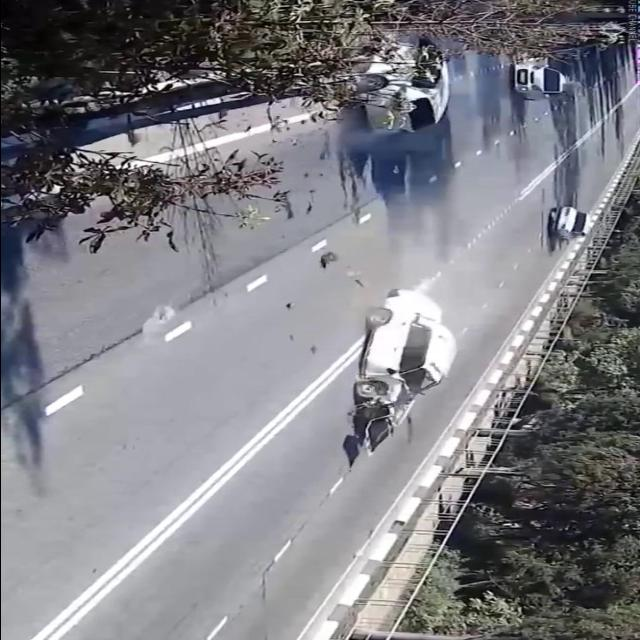accident: (340, 284, 467, 460), (333, 0, 467, 145)
